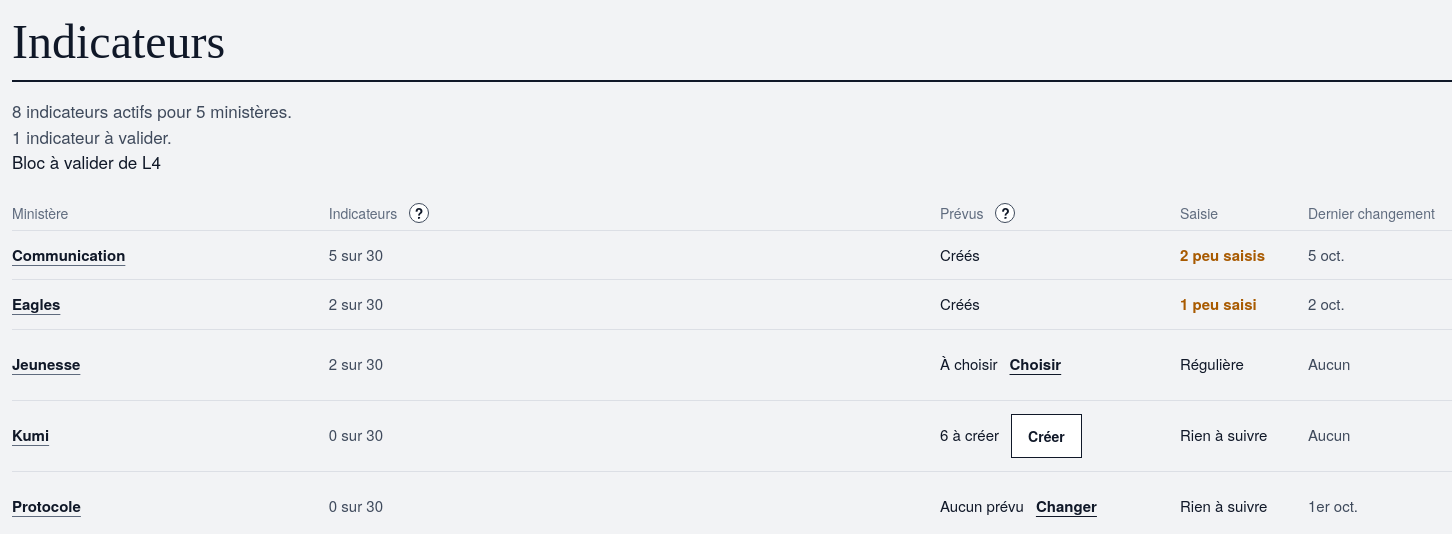
Test: VueIndicateurs : tableau des ministères (7.1) › deux aides sur les en-têtes : « Indicateurs » (30 au plus) et « Prévus »
This screenshot has width=1452, height=534.
What coordinates should you click on to do the following:
click the button named "Aide : Indicateurs"
I would click on:
 (419, 213)
Its box is [397,191,441,235].
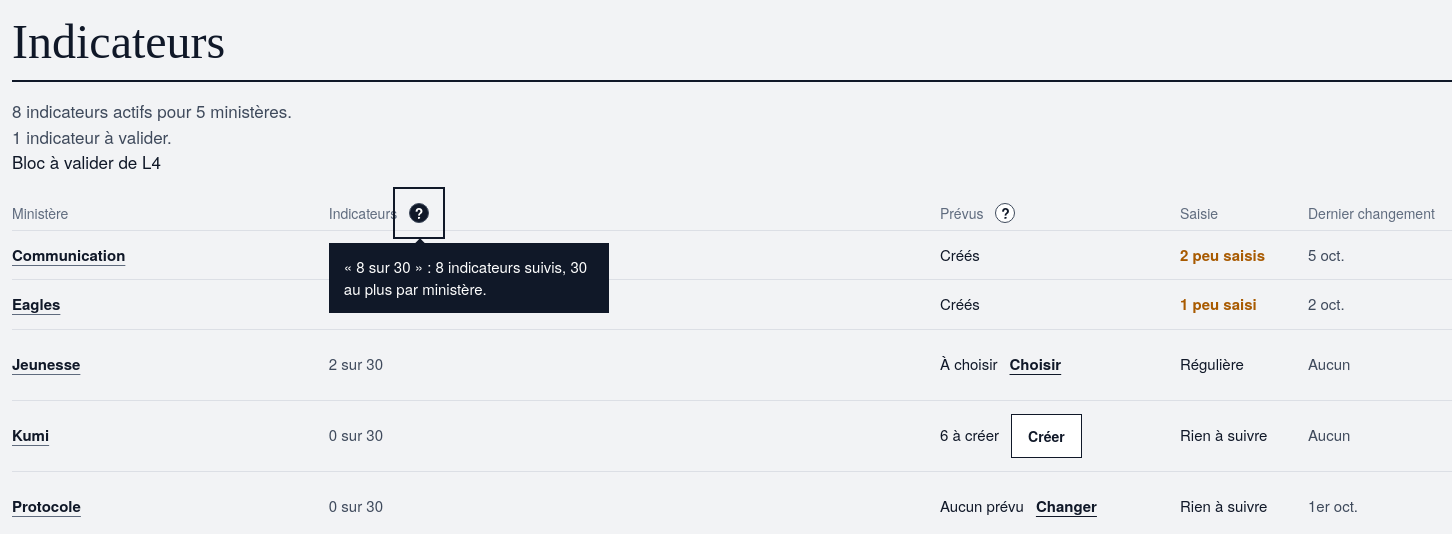
Expected: the button named "Aide : Prévus" is shown, [983,191,1027,235]
Now the text "« 8 sur 30 » : 8 indicateurs suivis, 30 au plus par ministère." is shown, box [329,243,609,312]
